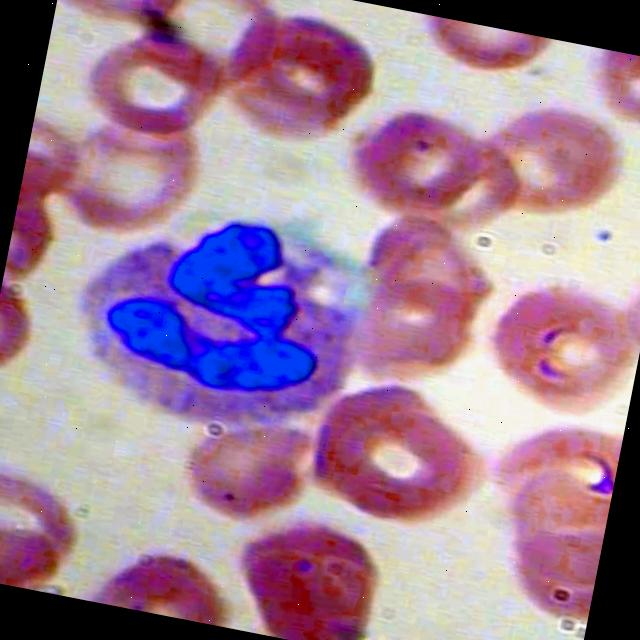RBC: (311, 384, 492, 538), (471, 275, 636, 420), (222, 505, 398, 640), (44, 105, 204, 250), (327, 92, 484, 227), (468, 90, 624, 225), (71, 17, 223, 148), (170, 406, 320, 534), (88, 537, 230, 626), (0, 462, 87, 596)
WBC: (51, 180, 402, 472)
